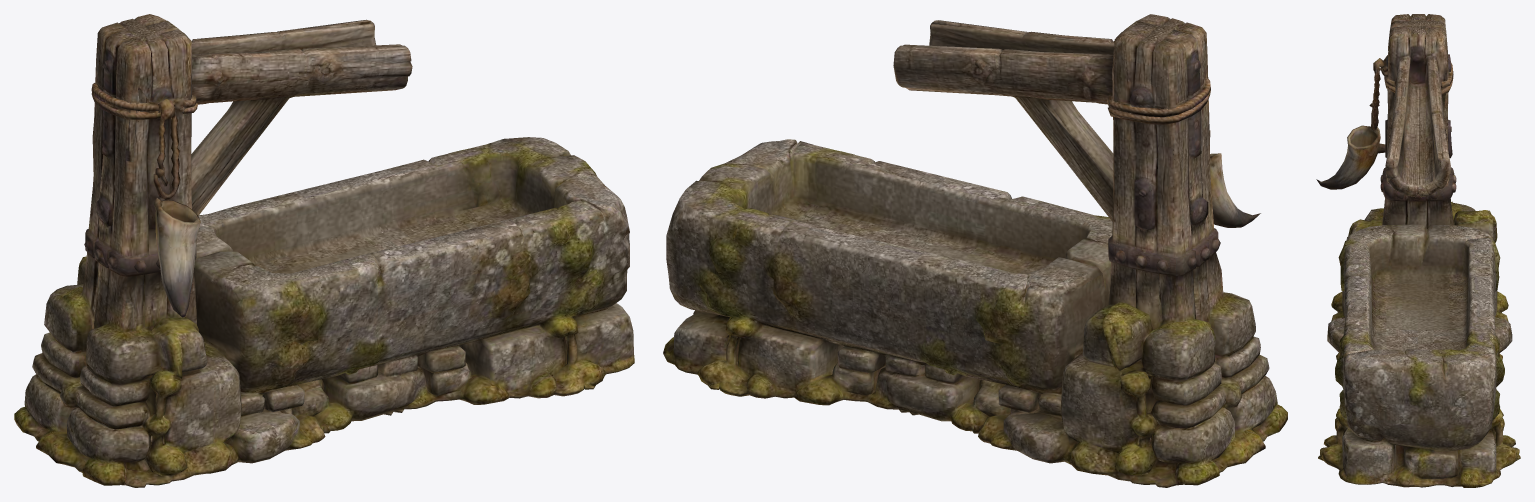
Rendered from cw_dipper_trough.glb.
The picture shows the model from 3 angles, left to right: view 1: azimuth 30°, elevation 25°; view 2: azimuth 150°, elevation 25°; view 3: azimuth 270°, elevation 25°; orthographic projection. The views are drawn at different scales.
Visible parts, largest first — view 1: cw_dipper_trough; view 2: cw_dipper_trough; view 3: cw_dipper_trough.
Part boxes in pixels (left/top/right/bottom): cw_dipper_trough: left=14, top=14, right=634, bottom=487; cw_dipper_trough: left=663, top=14, right=1287, bottom=487; cw_dipper_trough: left=1316, top=14, right=1520, bottom=487.
Size of the model in its own units: 1.9 by 1.33 by 0.8207.
1 material, 1 textured.
